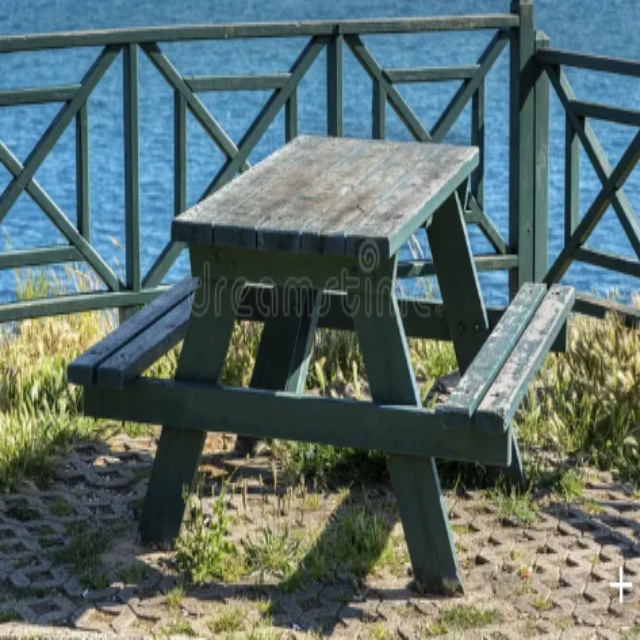obstacle: (64, 120, 582, 578)
